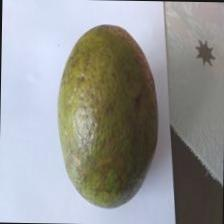Orange Rotten: (43, 14, 168, 223)
